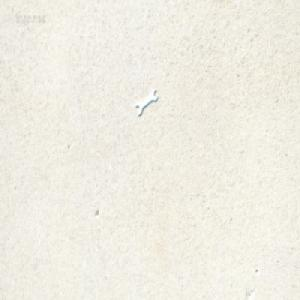Wrench: (134, 88, 158, 116)
